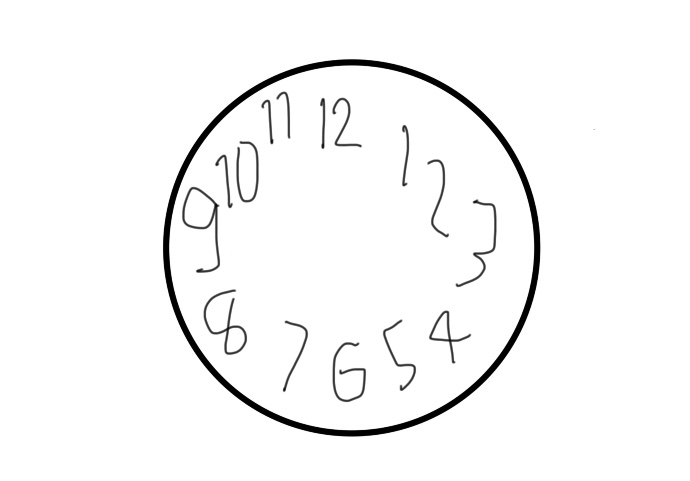eight: (203, 288, 245, 356)
eleven: (260, 92, 292, 144)
five: (379, 318, 416, 392)
four: (427, 309, 471, 364)
nine: (181, 187, 222, 274)
one: (393, 119, 414, 187)
seven: (277, 318, 309, 392)
six: (331, 340, 366, 403)
ten: (215, 139, 258, 208)
three: (452, 196, 498, 286)
two: (427, 157, 448, 237)
